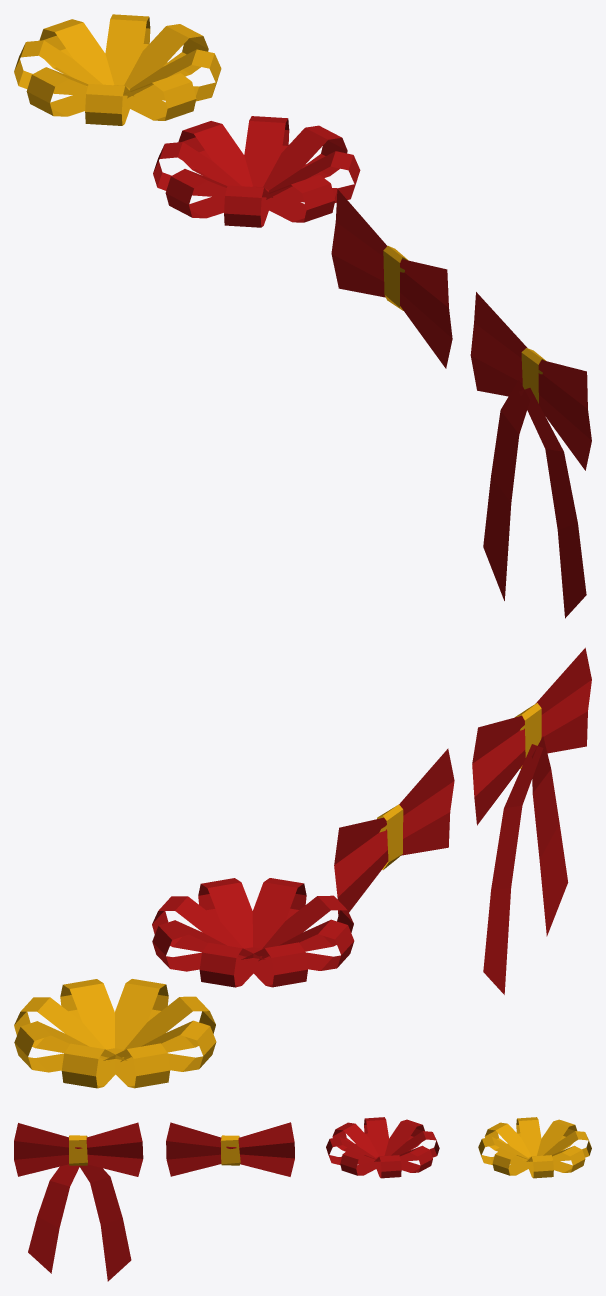
The model's file is Bows.fbx.
The picture shows the model from 3 angles, top to bottom: view 1: azimuth 30°, elevation 25°; view 2: azimuth 150°, elevation 25°; view 3: azimuth 270°, elevation 25°; orthographic projection. The views are drawn at different scales.
Visible parts, largest first — view 1: Bows_01, Bows_04, Bows_03, Bows_02; view 2: Bows_01, Bows_04, Bows_03, Bows_02; view 3: Bows_01, Bows_02, Bows_04, Bows_03.
Part boxes in pixels (left/top/right/bottom): Bows_01: left=470, top=292, right=591, bottom=618; Bows_04: left=14, top=14, right=221, bottom=125; Bows_03: left=153, top=116, right=360, bottom=227; Bows_02: left=331, top=189, right=452, bottom=368; Bows_01: left=472, top=647, right=591, bottom=994; Bows_04: left=14, top=979, right=216, bottom=1088; Bows_03: left=152, top=878, right=354, bottom=987; Bows_02: left=334, top=748, right=454, bottom=915; Bows_01: left=14, top=1122, right=143, bottom=1281; Bows_02: left=166, top=1122, right=294, bottom=1176; Bows_04: left=478, top=1117, right=591, bottom=1178; Bows_03: left=326, top=1117, right=439, bottom=1178.
Size of the model in its own units: 22.42 by 34.7 by 114.
Materials: 1 (1 with a texture image).
